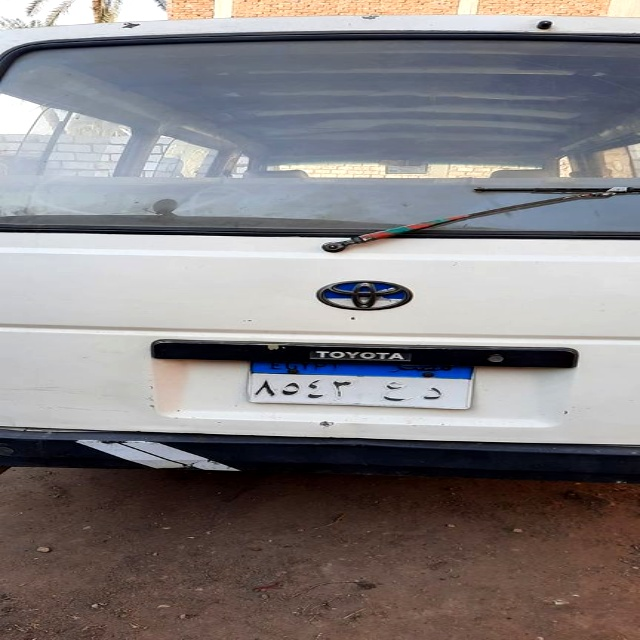License Plate: (244, 360, 479, 411)
